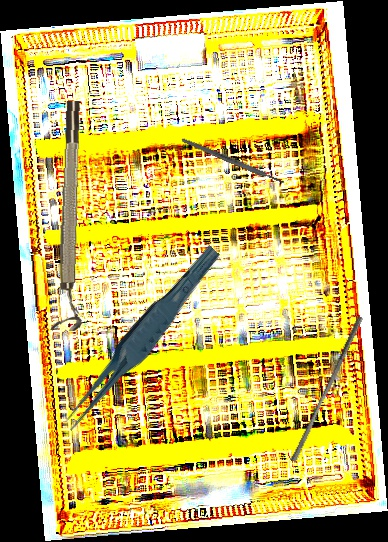Fixation Ring: (50, 100, 94, 332)
Pusher: (289, 313, 364, 465)
Scalpel Handle: (180, 136, 286, 186)
Tissue Forceps: (48, 243, 234, 434)
